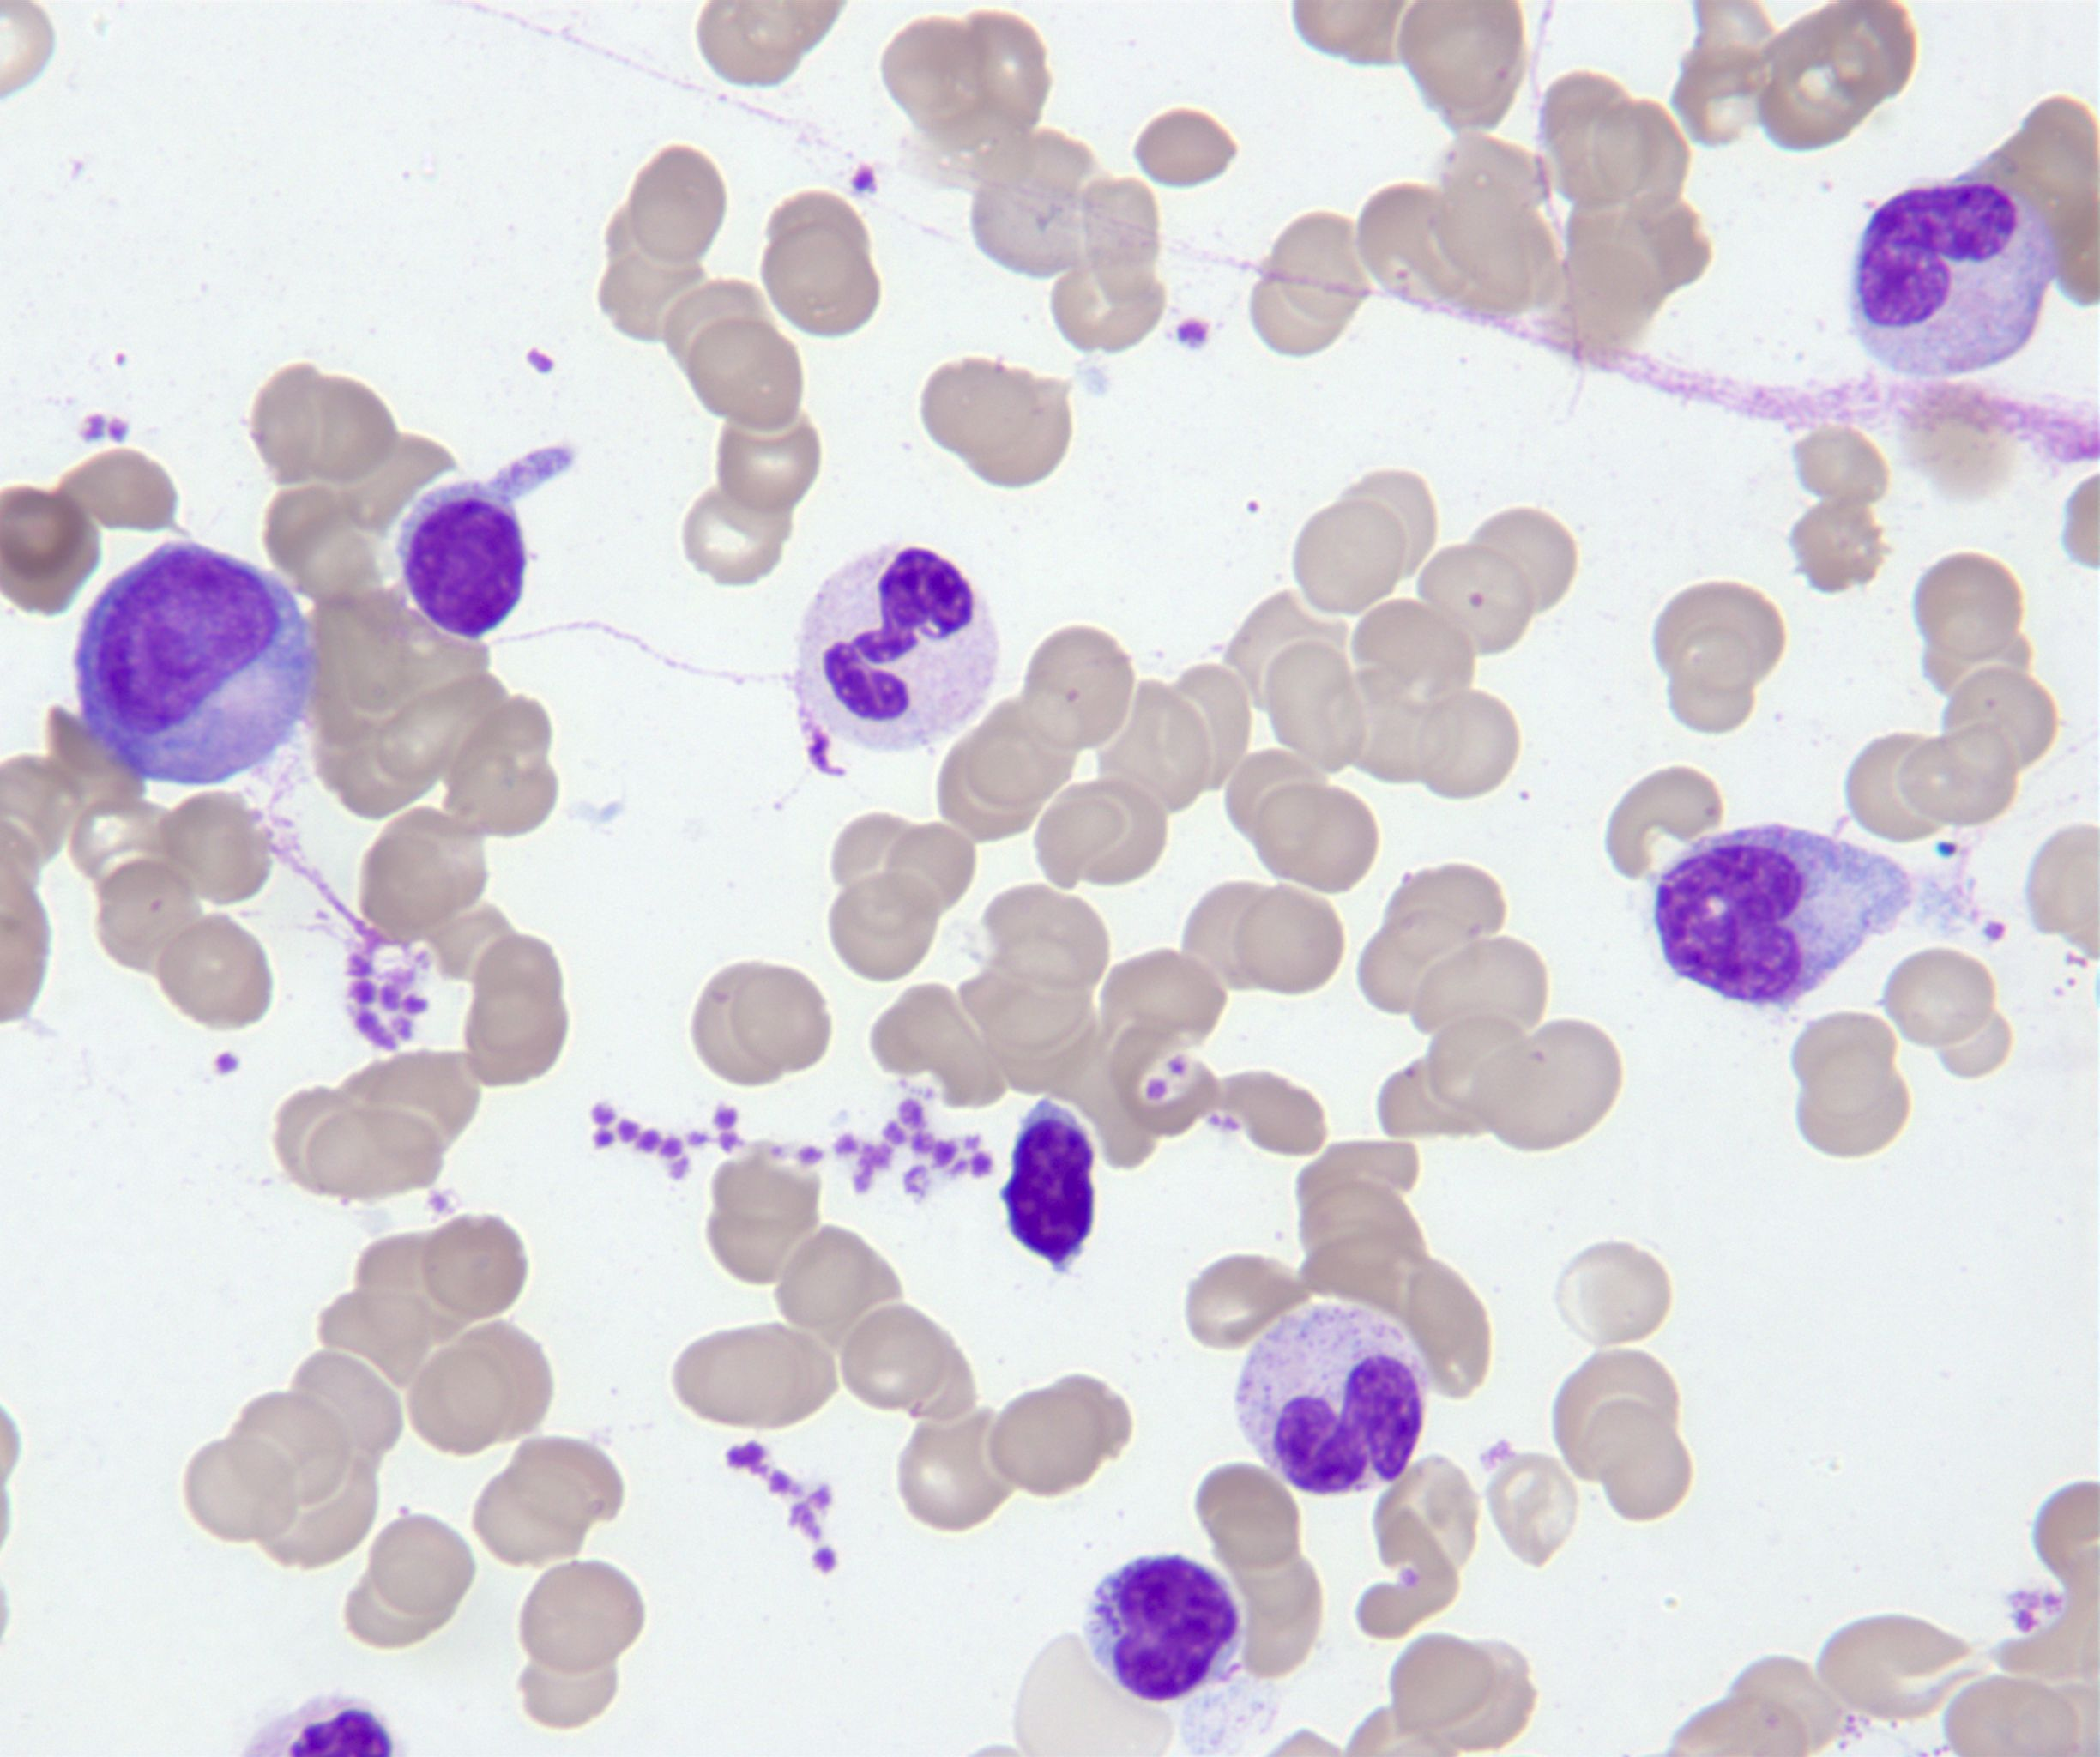2: (72, 541, 309, 787)
32: (399, 445, 572, 639), (1083, 1556, 1240, 1705), (998, 1096, 1095, 1277)
4: (1655, 824, 1908, 1007), (1851, 183, 2048, 373)
5: (799, 543, 998, 749), (1235, 1300, 1425, 1497)
x: (241, 1696, 396, 1757)
